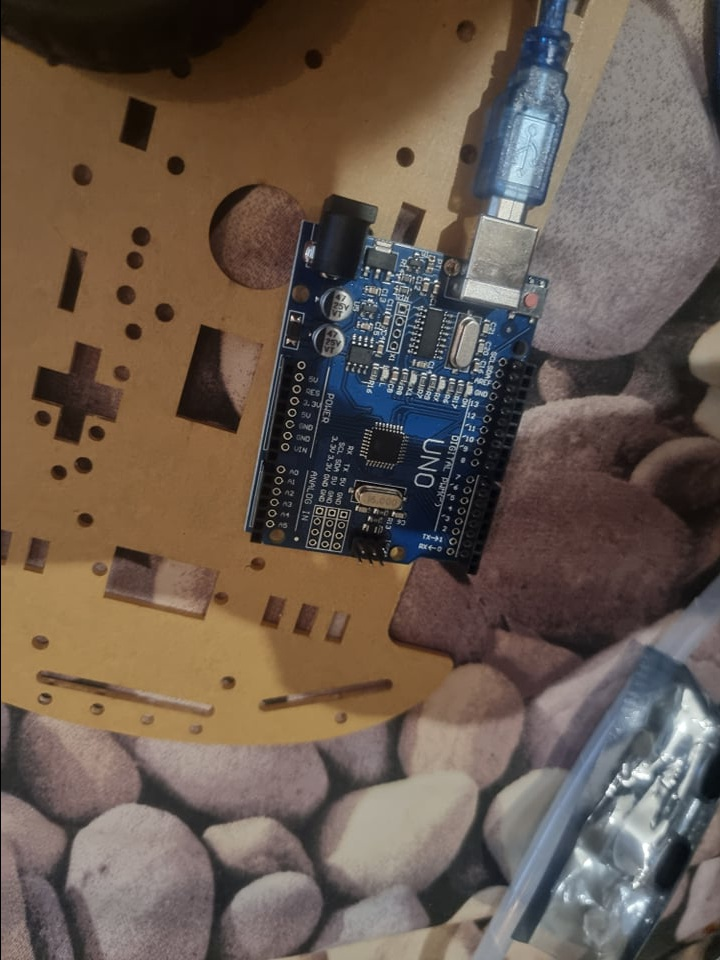UNO R3: (236, 193, 564, 576)
